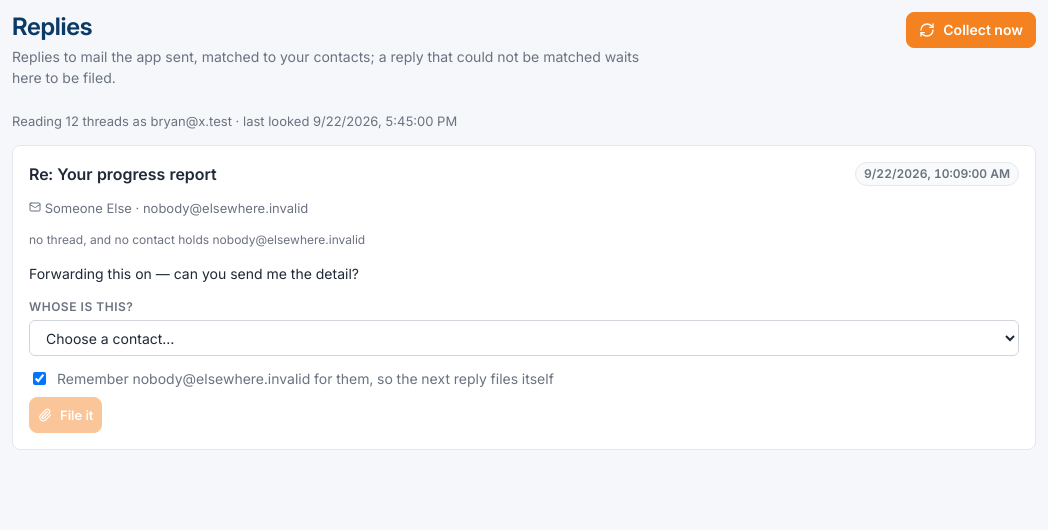
Scenario: replies that came back › files it to a contact and offers to remember the address
The width and height of the screenshot is (1048, 530).
Select "Dana Reyes · dana@acme.invalid" in the dropdown named "File nobody@elsewhere.invalid to" at (524, 338), box [29,320,1019,356]
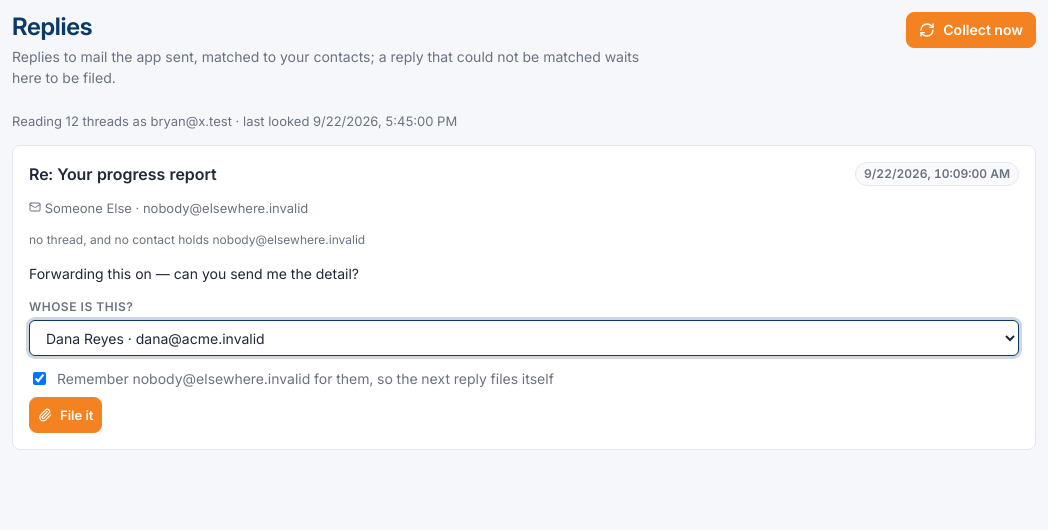
Click the button with aria-label "File nobody@elsewhere.invalid" at (66, 415), box [29,397,102,433]
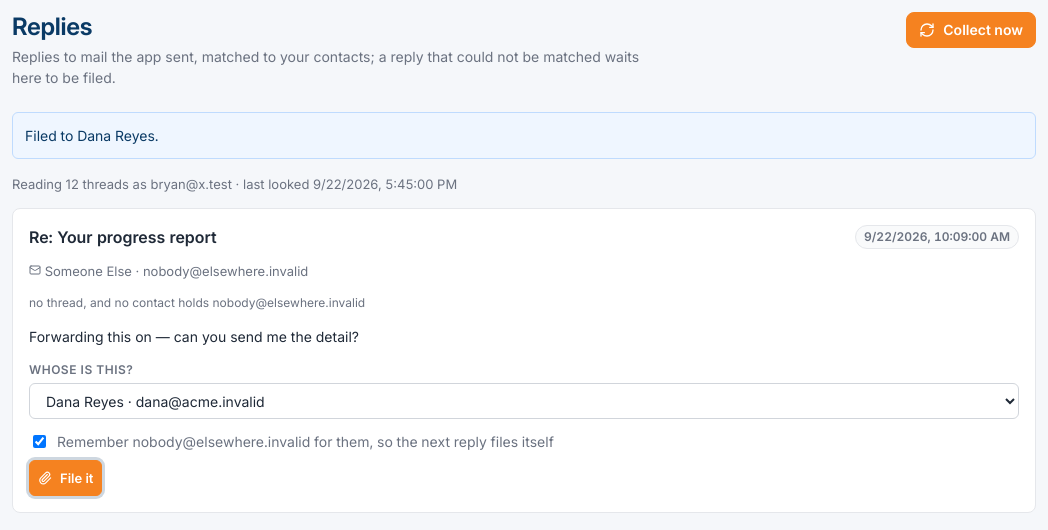
Expected: the text "Filed to Dana Reyes." is shown, [25,127,159,144]
